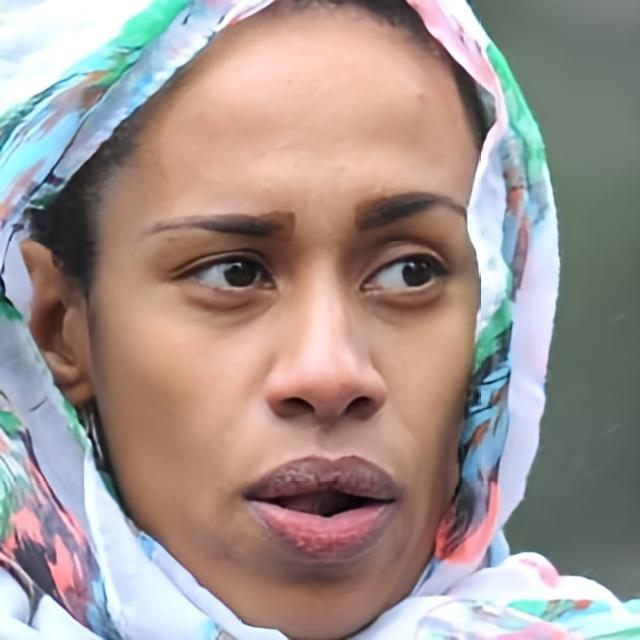anger: (93, 74, 478, 627)
